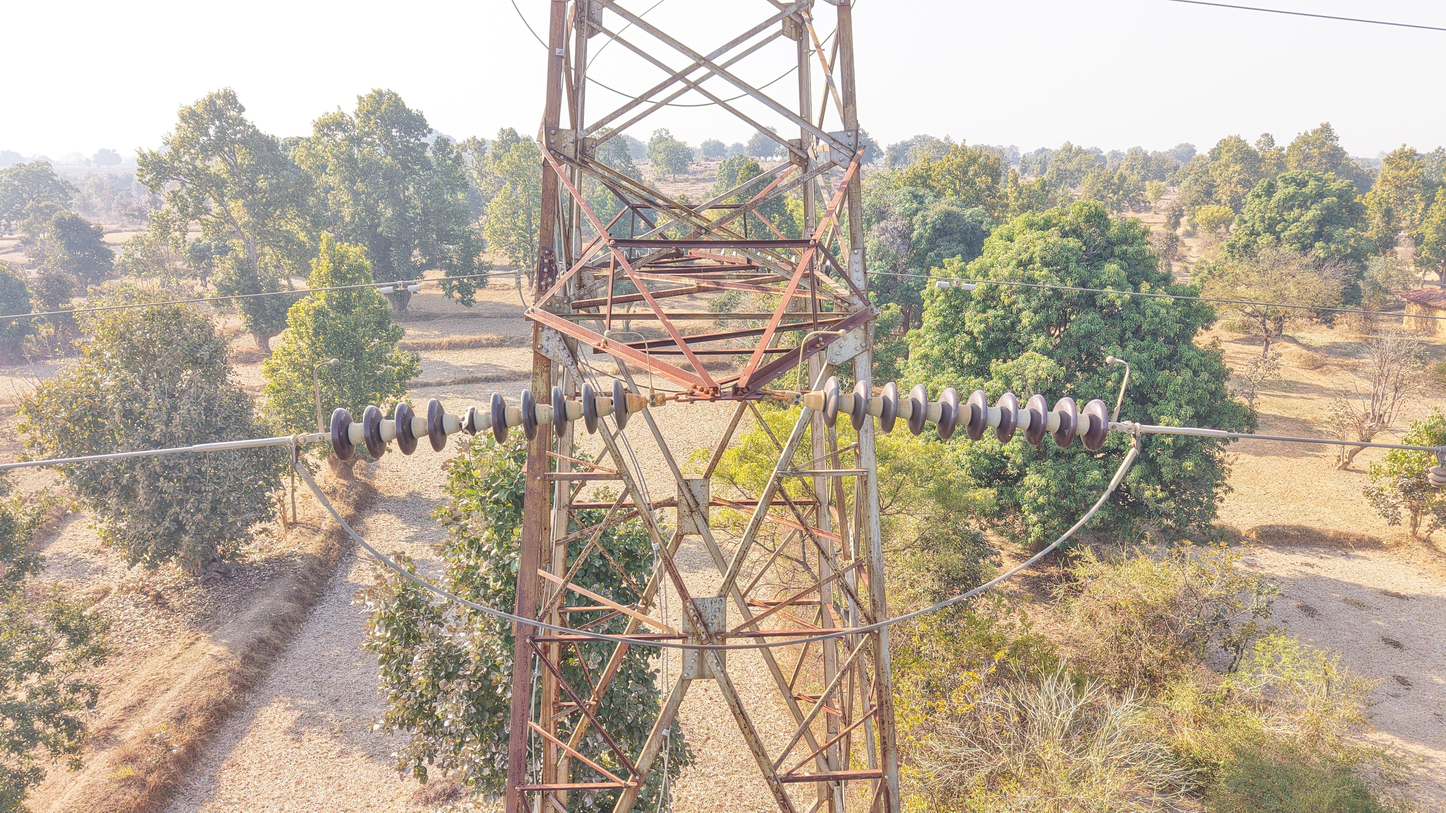broken_insulator: (455, 403, 485, 448)
